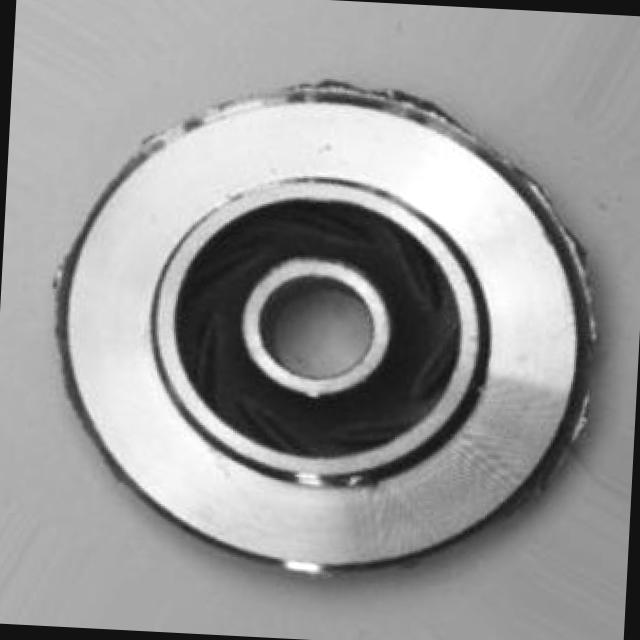Defect: (518, 166, 634, 328)
